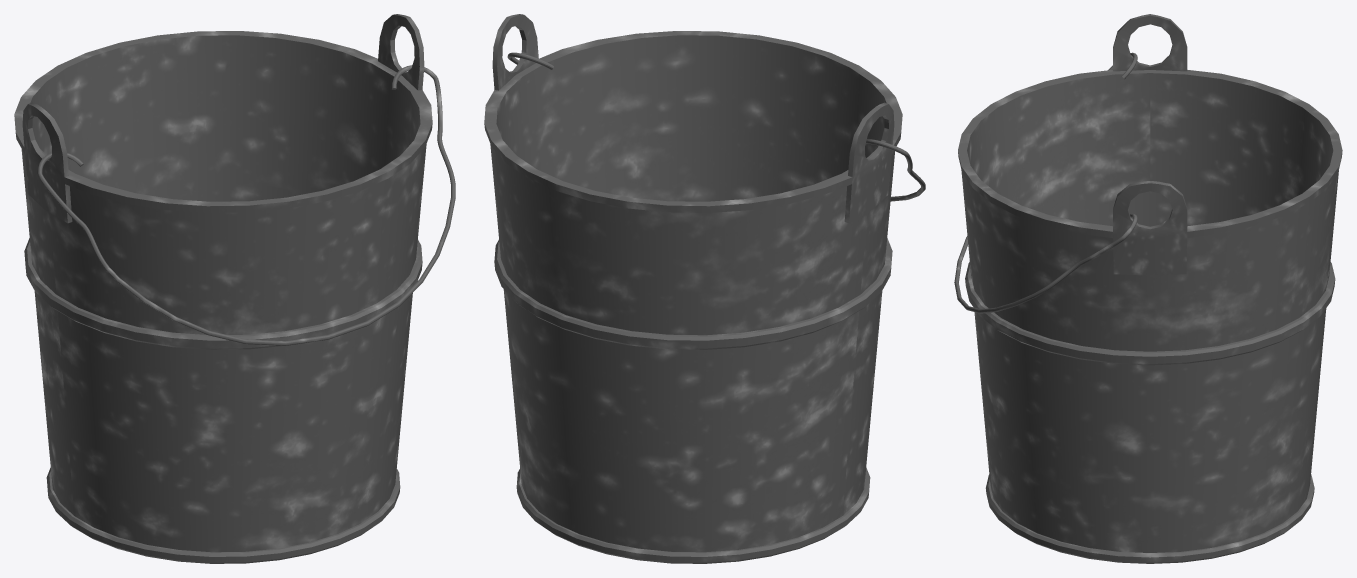
Rendered from bucket.fbx.
The picture shows the model from 3 angles, left to right: view 1: azimuth 30°, elevation 25°; view 2: azimuth 150°, elevation 25°; view 3: azimuth 270°, elevation 25°; orthographic projection. The views are drawn at different scales.
Visible parts, largest first — view 1: Cylinder; view 2: Cylinder; view 3: Cylinder.
Boxes of the visible parts, bbox=[...] form: Cylinder: bbox=[14, 14, 455, 563]; Cylinder: bbox=[484, 14, 925, 563]; Cylinder: bbox=[954, 14, 1342, 563].
Bounding box in the file's own units: 32.33 × 33.15 × 29.33.
Materials: 1 (1 with a texture image).
